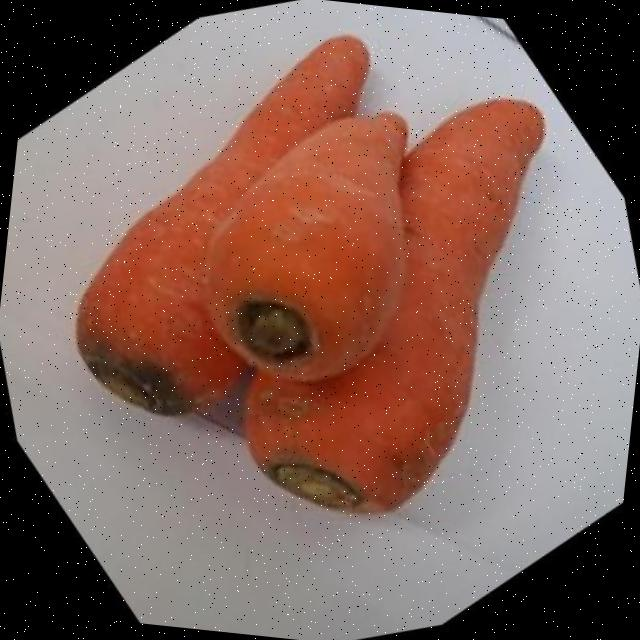carrot: (245, 98, 542, 512), (77, 37, 367, 415), (207, 112, 406, 378)
